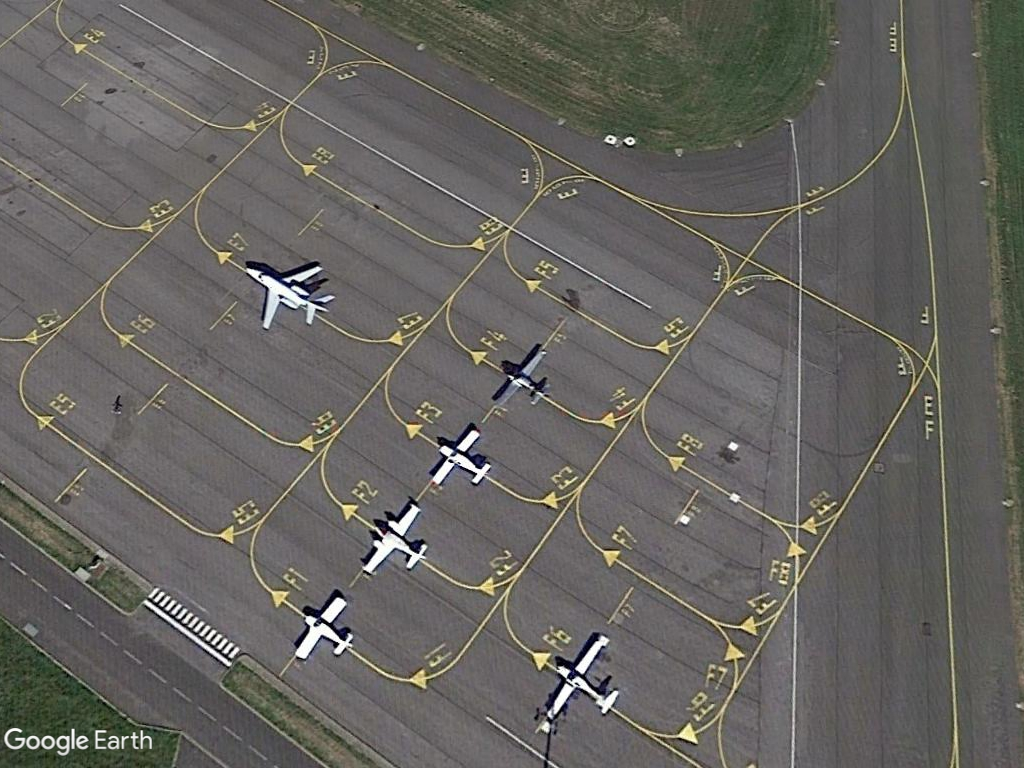chartered: (239, 254, 340, 333)
trainer: (543, 621, 624, 730), (286, 586, 363, 672), (421, 416, 500, 493), (493, 338, 555, 416)
